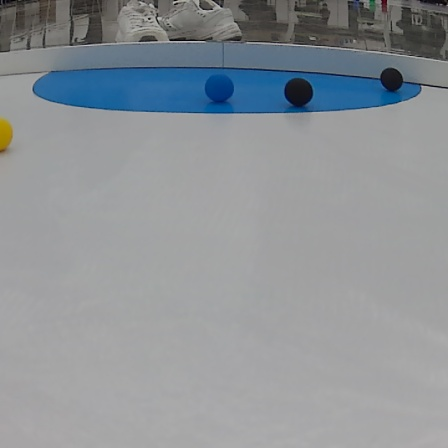black: (285, 78, 319, 109), (376, 67, 406, 93)
blue: (204, 71, 236, 102)
blue_base: (30, 67, 430, 116)
yellow: (0, 116, 20, 152)
